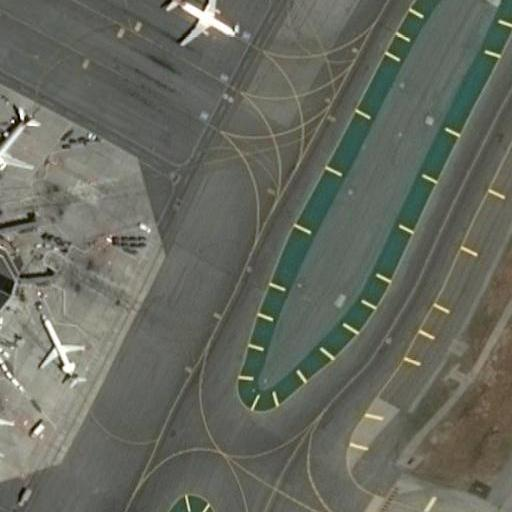Aircraft: (0, 96, 49, 183), (155, 0, 243, 46), (31, 317, 86, 380), (0, 379, 8, 454)
